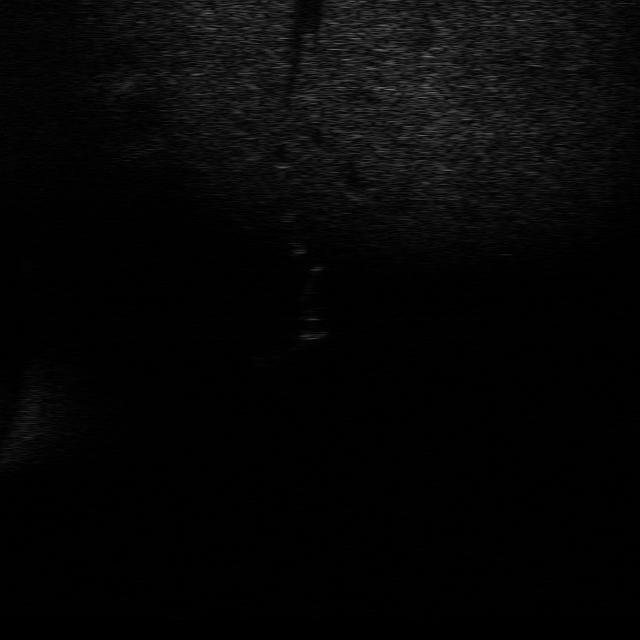ball: (291, 313, 330, 342)
human body: (274, 208, 326, 303)
